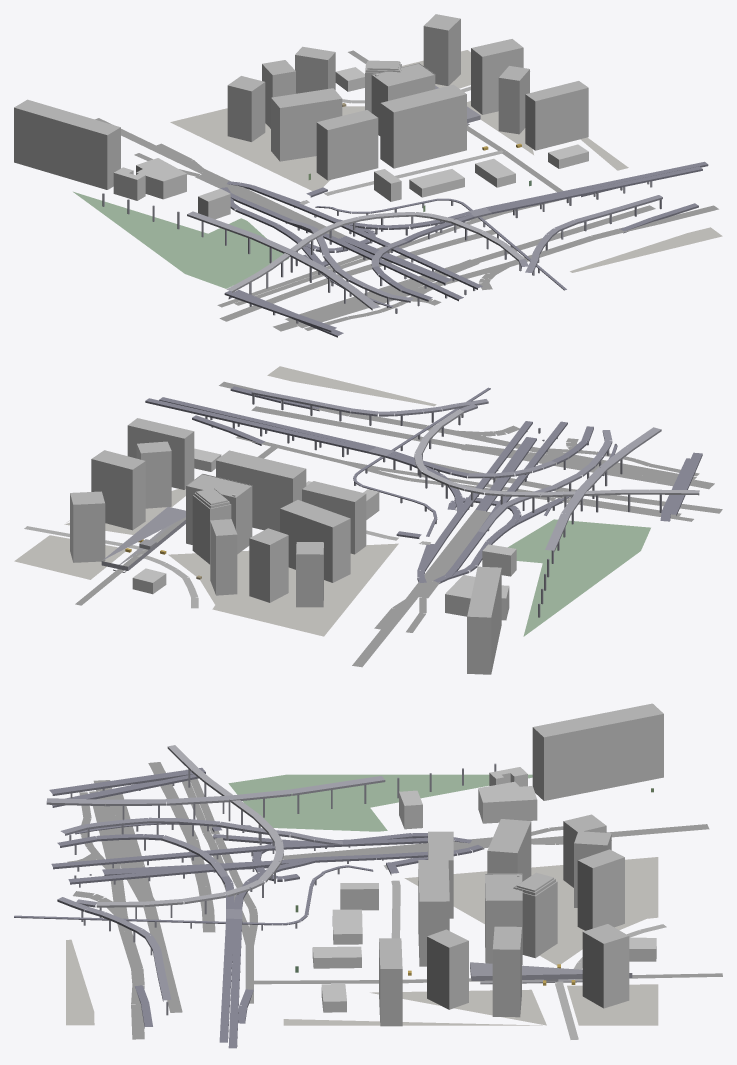
3 views of the same model, one above another, from view 1: azimuth 30°, elevation 25°; view 2: azimuth 150°, elevation 25°; view 3: azimuth 270°, elevation 25° (orthographic). The views are drawn at different scales.
Size of the model in its own units: 586 by 64.59 by 598.
